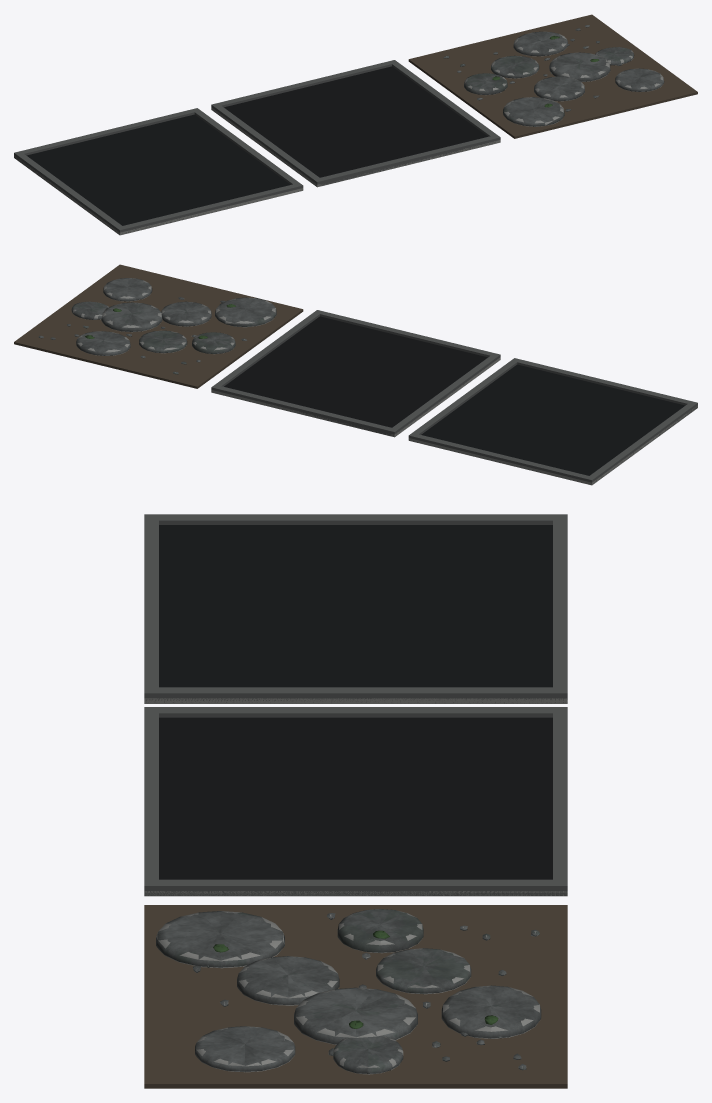
File: prop_paving_tiles.gltf
3 renders of one model, top to bottom at view 1: azimuth 30°, elevation 25°; view 2: azimuth 150°, elevation 25°; view 3: azimuth 270°, elevation 25°, orthographic. The views are drawn at different scales.
Parts seen in each view (by area): view 1: Far, Near; view 2: Far, Near; view 3: Far, Near.
Boxes of the visible parts, box(x1,y1,x2,y2) form: Far: box(14, 14, 697, 235); Near: box(443, 25, 664, 126); Far: box(14, 264, 697, 485); Near: box(38, 278, 276, 374); Far: box(144, 514, 567, 1088); Near: box(156, 909, 541, 1073).
Bounding box in the file's own units: 10.84 × 0.1568 × 3.44.
8 materials, 5 textured.
